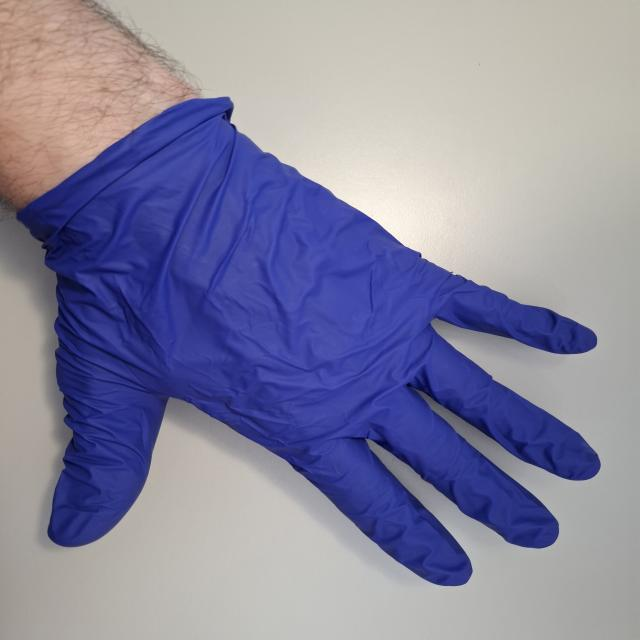glove_on: (35, 93, 607, 592)
